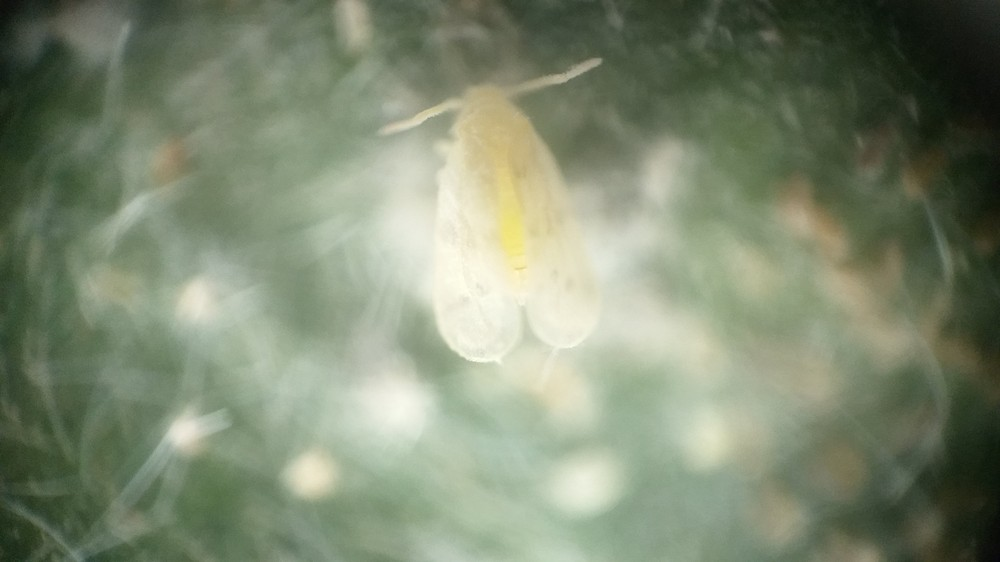Mosca Blanca: (348, 55, 652, 370)
